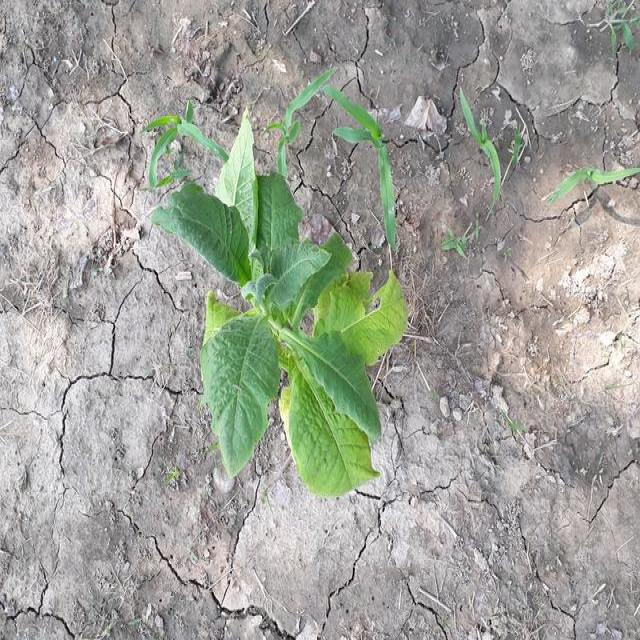crop: (166, 136, 403, 487)
